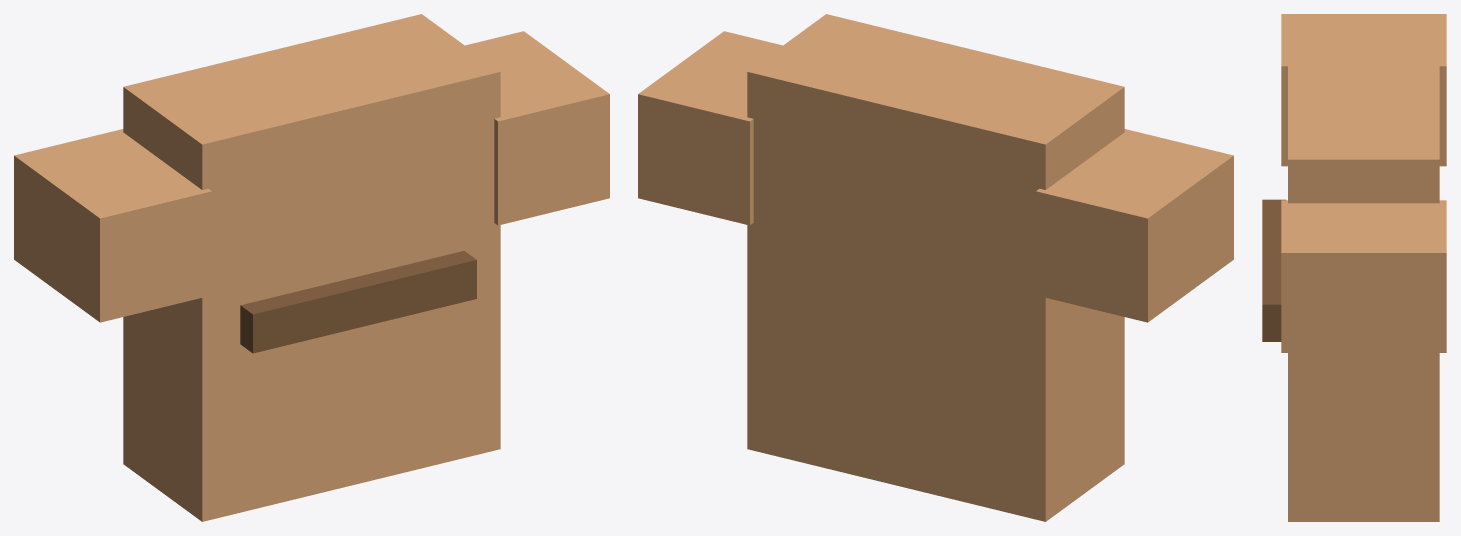
File: copperArmor.glb
The picture shows the model from 3 angles, left to right: view 1: azimuth 30°, elevation 25°; view 2: azimuth 150°, elevation 25°; view 3: azimuth 270°, elevation 25°; orthographic projection. The views are drawn at different scales.
Parts seen in each view (by area): view 1: ArmorChest, ArmorLeftShoulder, ArmorRightShoulder, ArmorStrap; view 2: ArmorChest, ArmorLeftShoulder, ArmorRightShoulder; view 3: ArmorChest, ArmorRightShoulder, ArmorLeftShoulder, ArmorStrap.
Part boxes in pixels (x1,y1,x2,y2): ArmorChest: [123, 14, 500, 521]; ArmorLeftShoulder: [14, 129, 211, 322]; ArmorRightShoulder: [465, 31, 609, 225]; ArmorStrap: [240, 251, 476, 353]; ArmorChest: [747, 14, 1124, 521]; ArmorLeftShoulder: [1036, 129, 1233, 322]; ArmorRightShoulder: [638, 31, 782, 225]; ArmorChest: [1288, 19, 1439, 521]; ArmorRightShoulder: [1281, 200, 1446, 352]; ArmorLeftShoulder: [1281, 14, 1446, 166]; ArmorStrap: [1262, 199, 1285, 341].
Size of the model in its own units: 0.82 by 0.58 by 0.2675.
